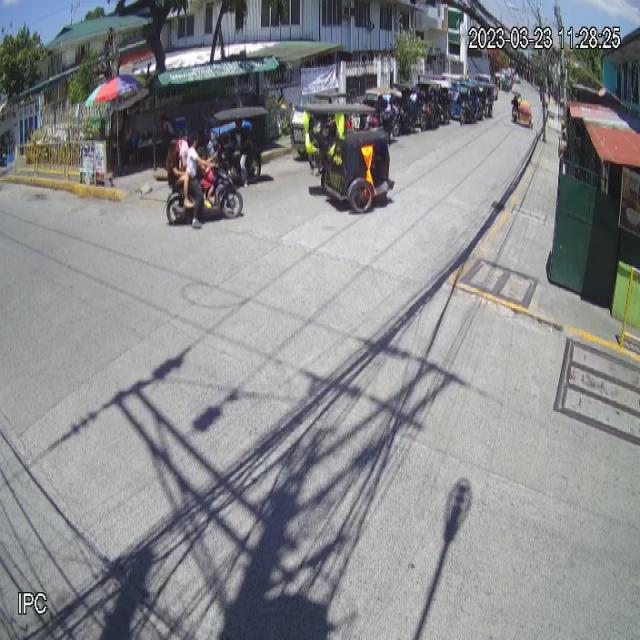Motorcycle: (162, 164, 243, 227)
Tricycle: (309, 91, 396, 216), (202, 92, 273, 189)
